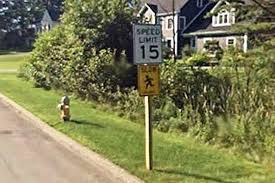speedLimit15: (132, 21, 163, 64)
